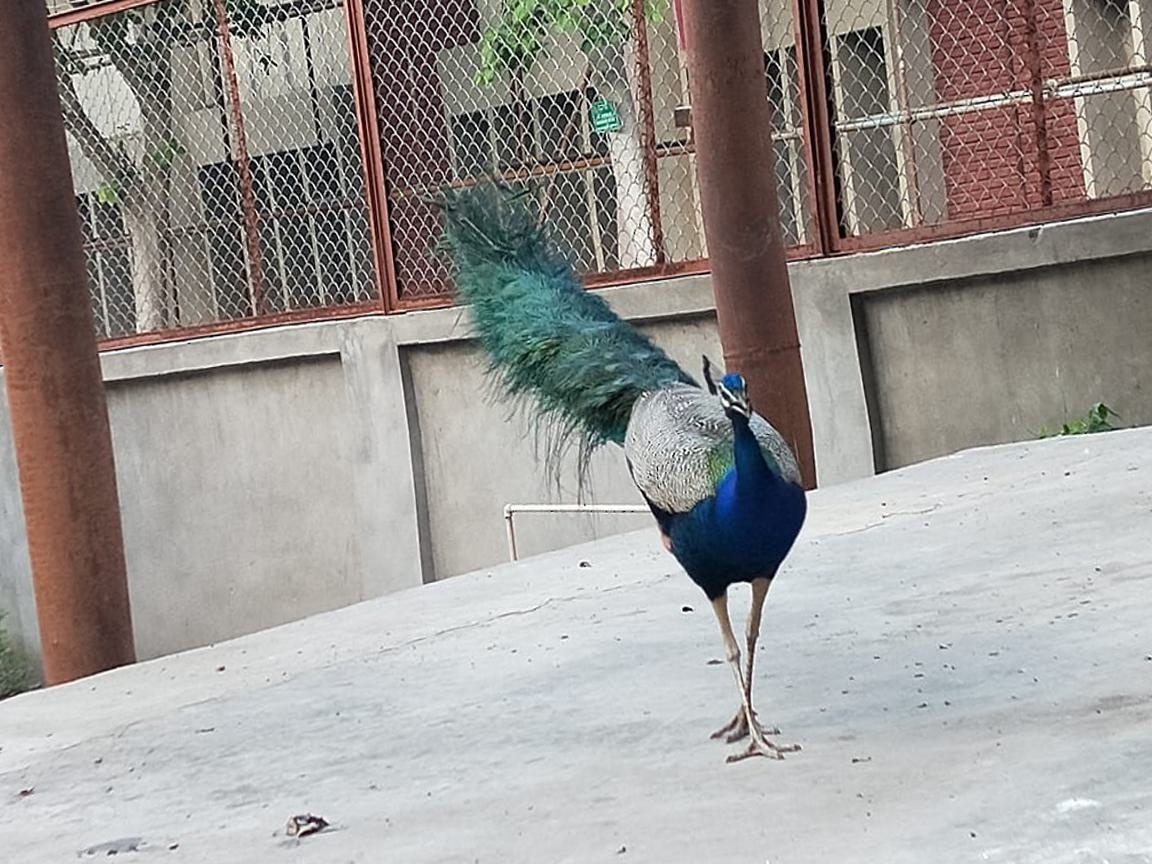peacock: (425, 151, 853, 726)
